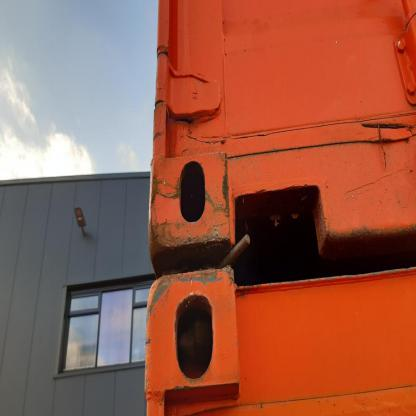CornerCasting: (141, 269, 244, 389), (140, 154, 242, 261)
